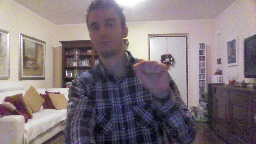Pugno: (130, 58, 170, 96)
